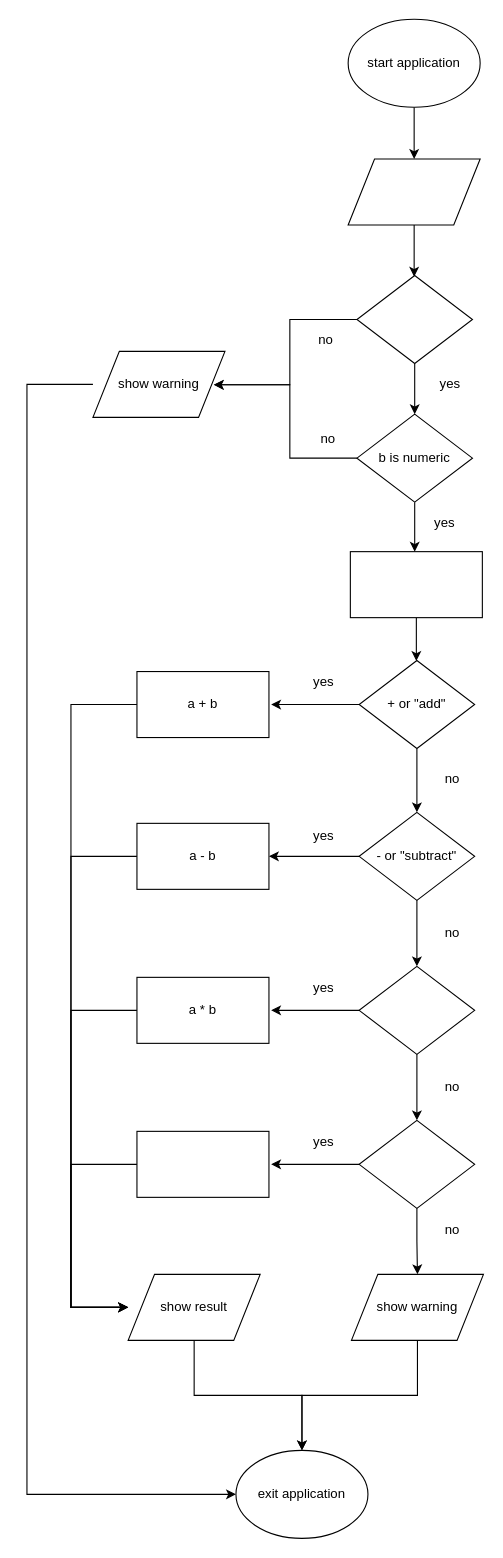
Image size: 503x1558. Some labels were removed from this diagram. Here are the shapes that lost their labels. From the top down, the centre of each, then its label:
pixel 413 191: a b operation
pixel 414 319: a is numeric
pixel 415 584: lowercase operation
pixel 416 1009: * or "multiply"
pixel 202 1163: a / b
pixel 416 1163: / or "divide"
